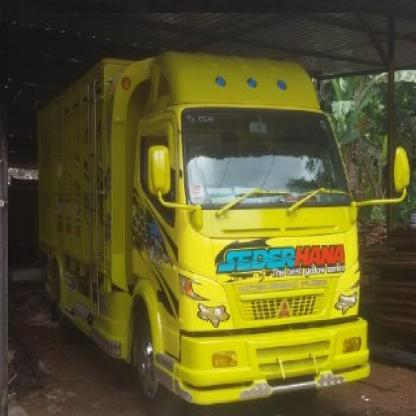truck: (42, 56, 407, 407)
